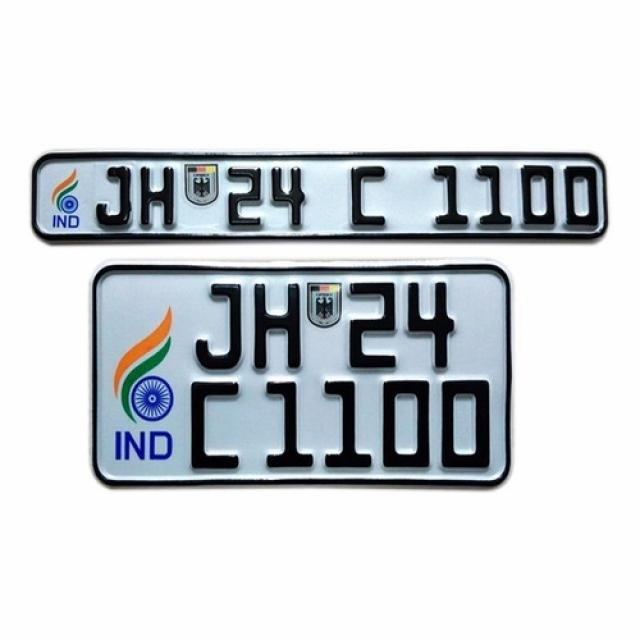plate: (98, 268, 506, 482), (37, 155, 606, 234)
